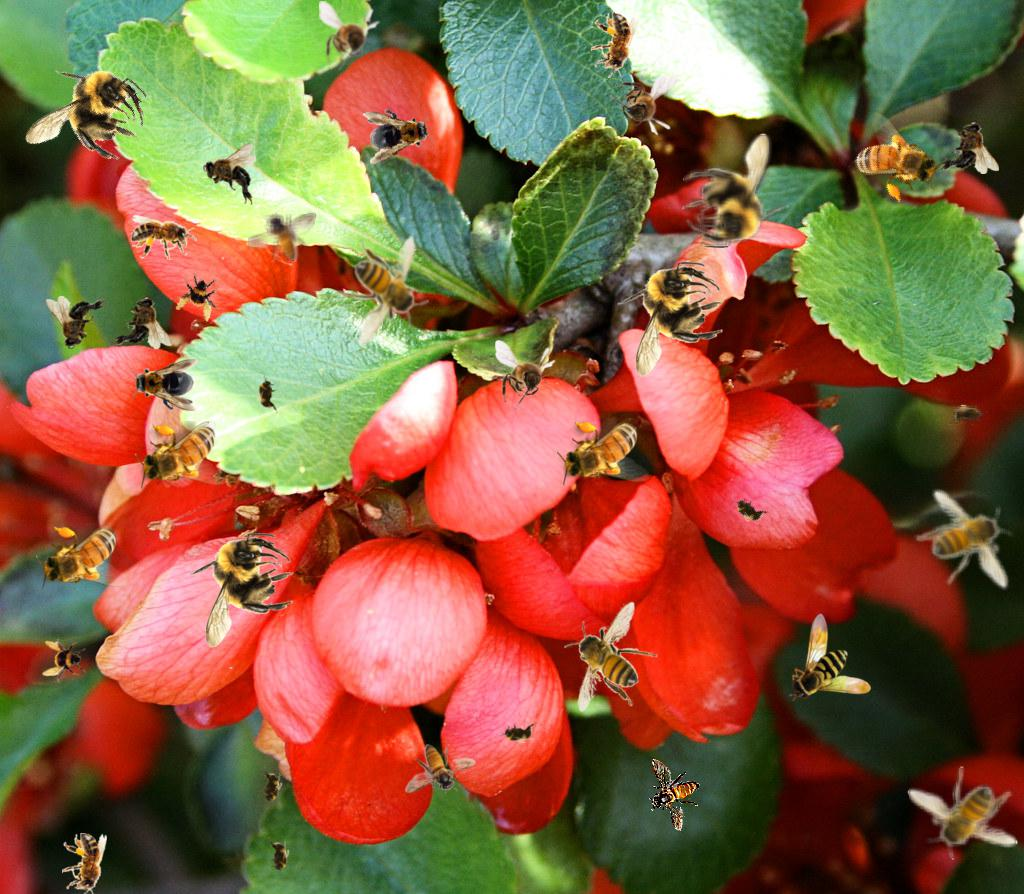Bee: (7, 38, 164, 195), (897, 475, 1024, 611), (837, 106, 953, 217), (187, 533, 294, 648), (617, 262, 724, 377), (682, 133, 789, 248), (335, 236, 429, 347), (907, 766, 1018, 860), (564, 601, 658, 712), (789, 613, 871, 701), (557, 418, 650, 486), (135, 421, 228, 489), (36, 523, 129, 591), (361, 101, 437, 165), (608, 75, 678, 136), (495, 340, 556, 410), (319, 1, 380, 71), (646, 758, 702, 833), (588, 10, 640, 81), (246, 212, 317, 262), (405, 744, 476, 794), (130, 359, 198, 411), (937, 121, 999, 174), (46, 296, 108, 349), (110, 296, 172, 349), (203, 143, 256, 205), (172, 269, 228, 325), (131, 215, 197, 260), (62, 833, 107, 894), (42, 639, 86, 683), (726, 489, 772, 531), (256, 766, 286, 810), (256, 374, 278, 414), (498, 722, 538, 744), (948, 404, 988, 426), (268, 837, 290, 877)
